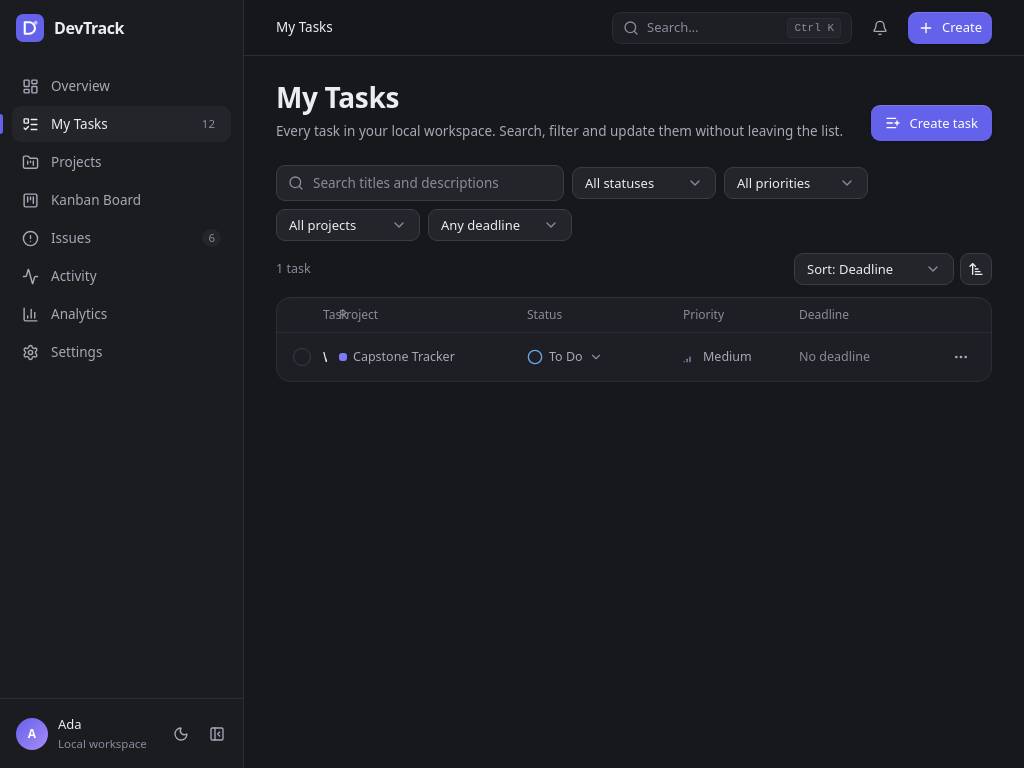
Test case: My Tasks › rolls back a status change the server rejects and says so
Click the button with aria-label "Status: To Do. Change status of Write docs" at (565, 357), box [519,343,611,371]
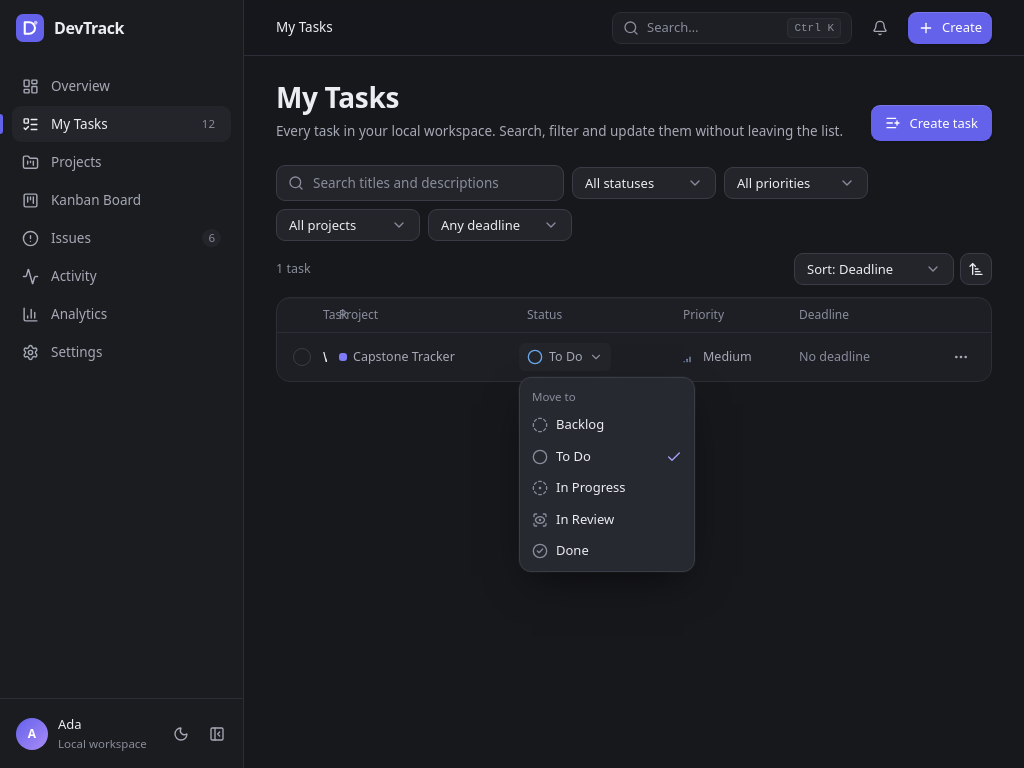
Click the menu item "Done" at (560, 550), box [532,541,589,559]
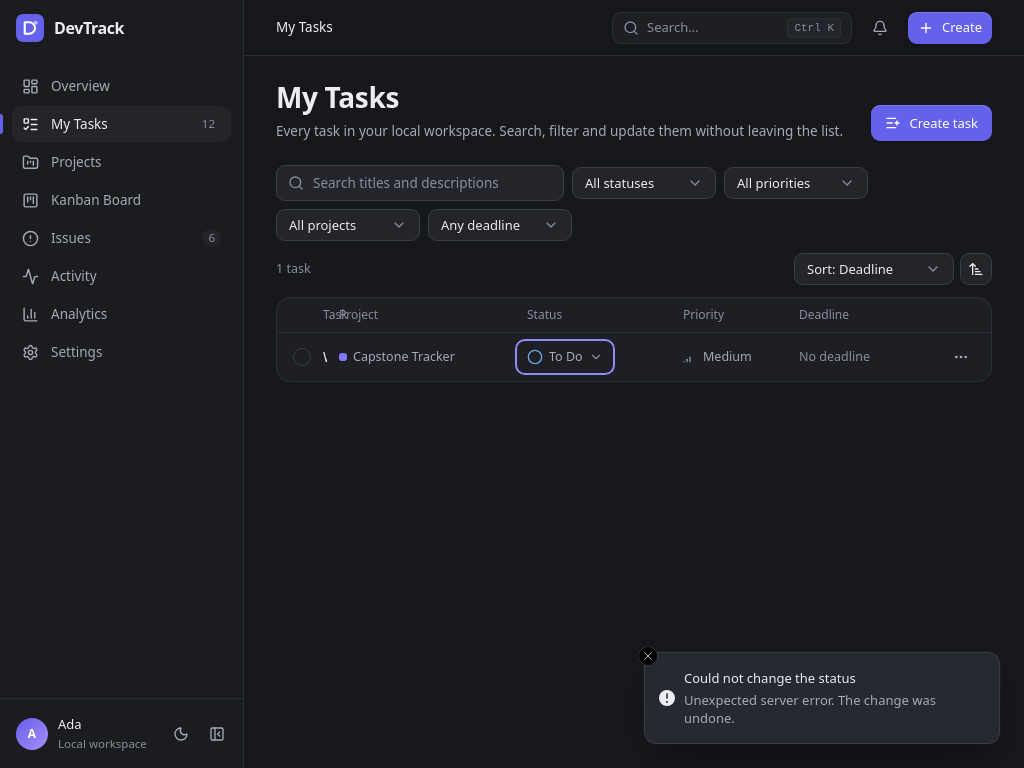
Check: the button with aria-label "Status: To Do. Change status of Write docs" is shown, box [519,343,611,371]
Check: the text "Could not change the status" is shown, box [684,669,856,687]
Check: the text "Unexpected server error. The change was undone." is shown, box [684,691,936,727]
